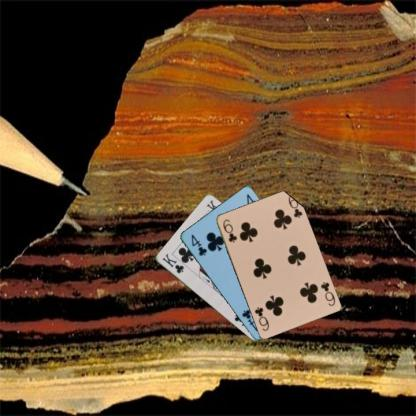4c: (188, 232, 209, 257)
6c: (220, 216, 238, 244), (318, 279, 336, 307)
Kc: (159, 251, 185, 275)
